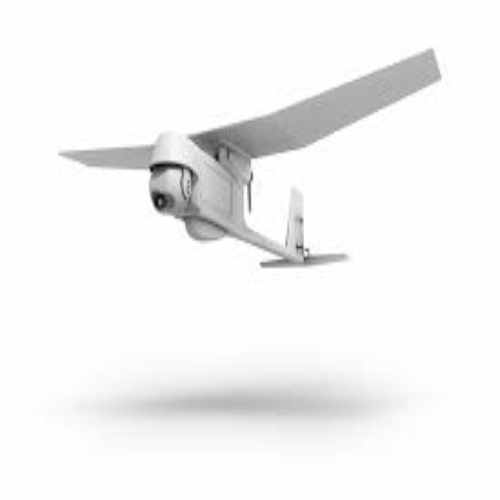uav: (56, 46, 444, 270)
